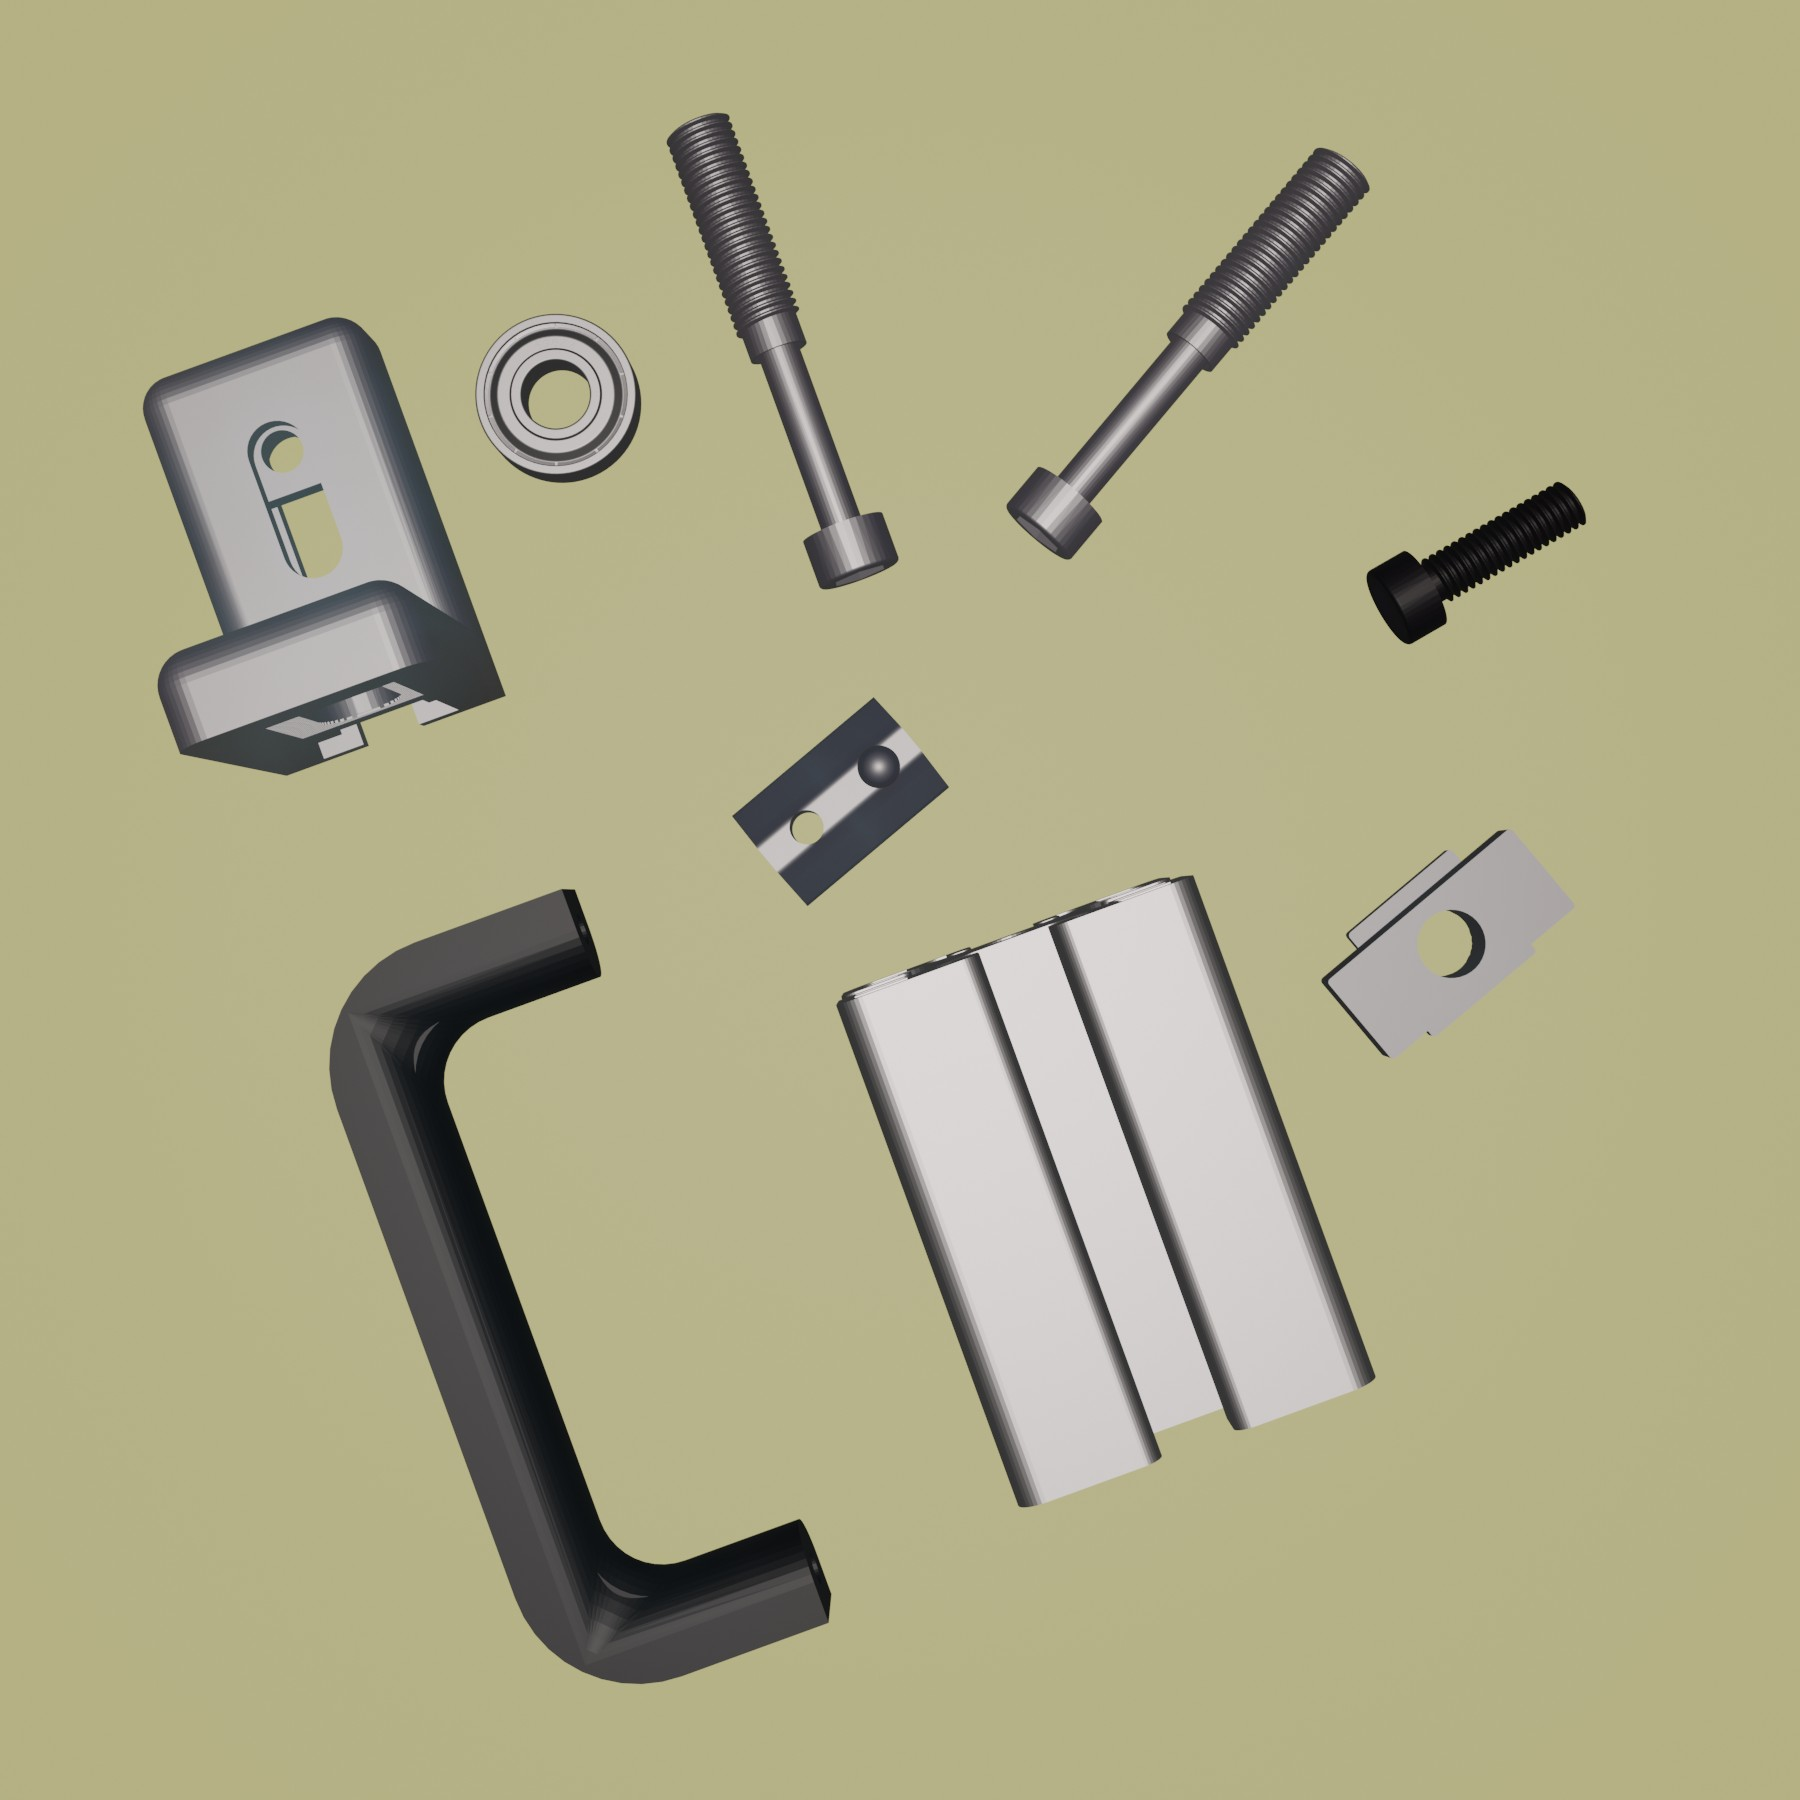Aluminium Extension: (831, 872, 1376, 1512)
Ball Bearing: (473, 312, 643, 485)
Multiwinkel: (140, 315, 506, 778)
Pull Handle: (326, 885, 832, 1686)
Shoulder Socket Head Cap Screw: (1001, 142, 1371, 562), (664, 109, 902, 595)
Socket Head Cap Screw: (1363, 476, 1591, 648)
T Nut Square: (1319, 824, 1579, 1062)
T Spring Nut: (729, 696, 949, 908)
